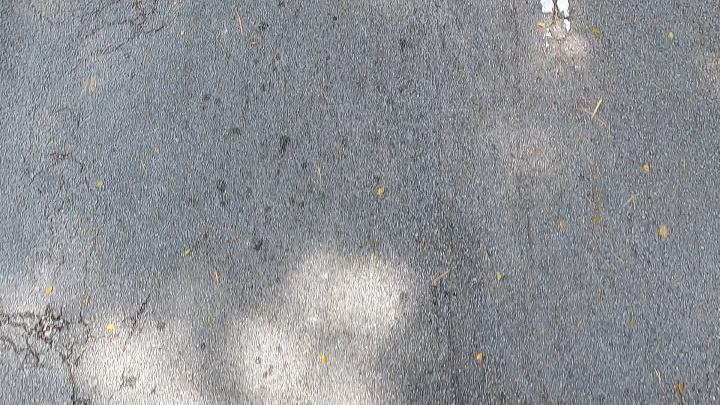Crack: (0, 301, 96, 405), (0, 305, 93, 404), (34, 0, 179, 58), (82, 0, 159, 39), (96, 23, 165, 56), (33, 0, 122, 23), (114, 296, 161, 335), (124, 298, 150, 328)
